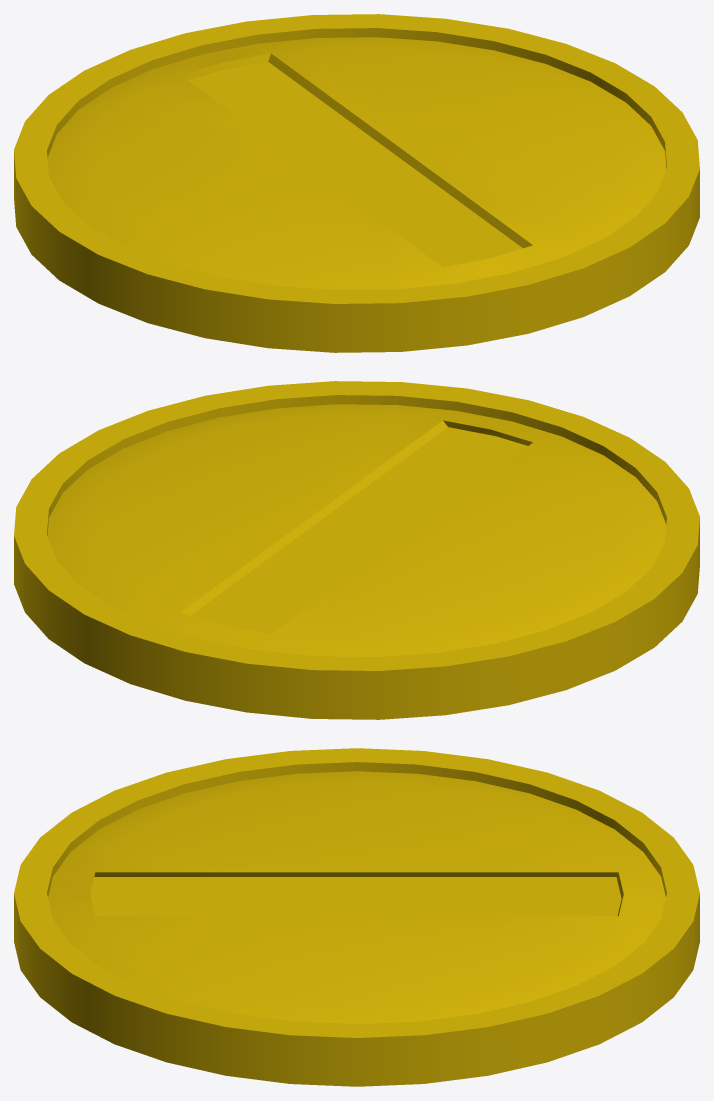
Rendered from Gold Coin 12_1_22.fbx.
The picture shows the model from 3 angles, top to bottom: view 1: azimuth 30°, elevation 25°; view 2: azimuth 150°, elevation 25°; view 3: azimuth 270°, elevation 25°; orthographic projection.
Parts seen in each view (by area): view 1: Circle; view 2: Circle; view 3: Circle.
Boxes of the visible parts, left/top/right/bottom form: Circle: left=14, top=14, right=699, bottom=352; Circle: left=14, top=381, right=699, bottom=719; Circle: left=14, top=748, right=699, bottom=1086.
Bounding box in the file's own units: 200 × 15.68 × 200.
